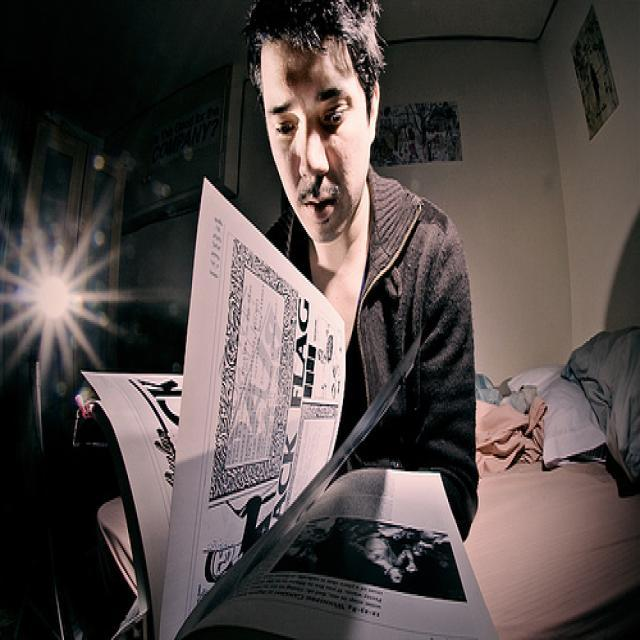non-dog: (242, 2, 478, 527)
